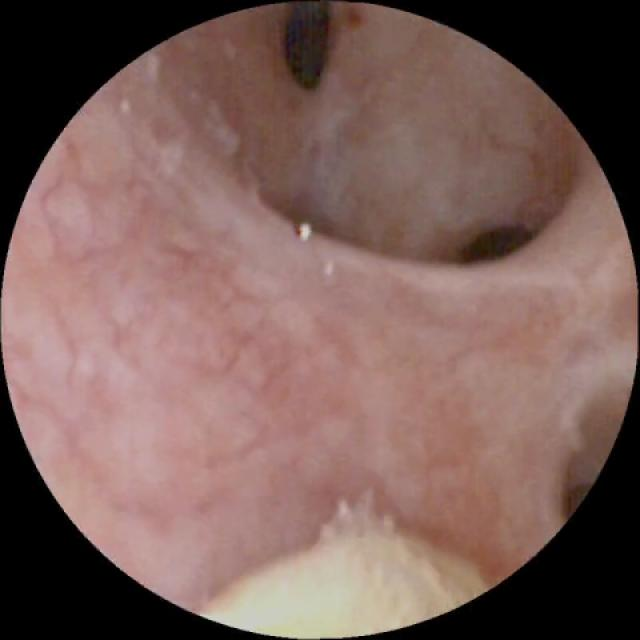stone: (204, 498, 483, 632)
tissue: (10, 9, 629, 603)
